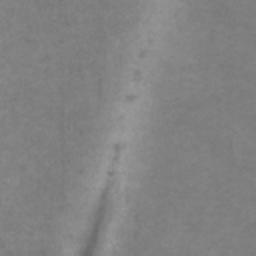Finishing roll printing: (82, 143, 129, 256), (131, 67, 146, 82), (122, 93, 142, 104), (138, 49, 150, 61)
